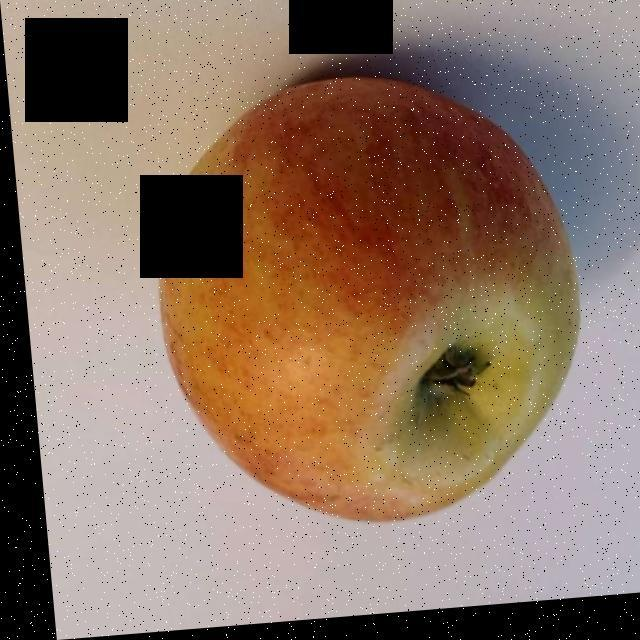apple: (168, 89, 562, 509)
